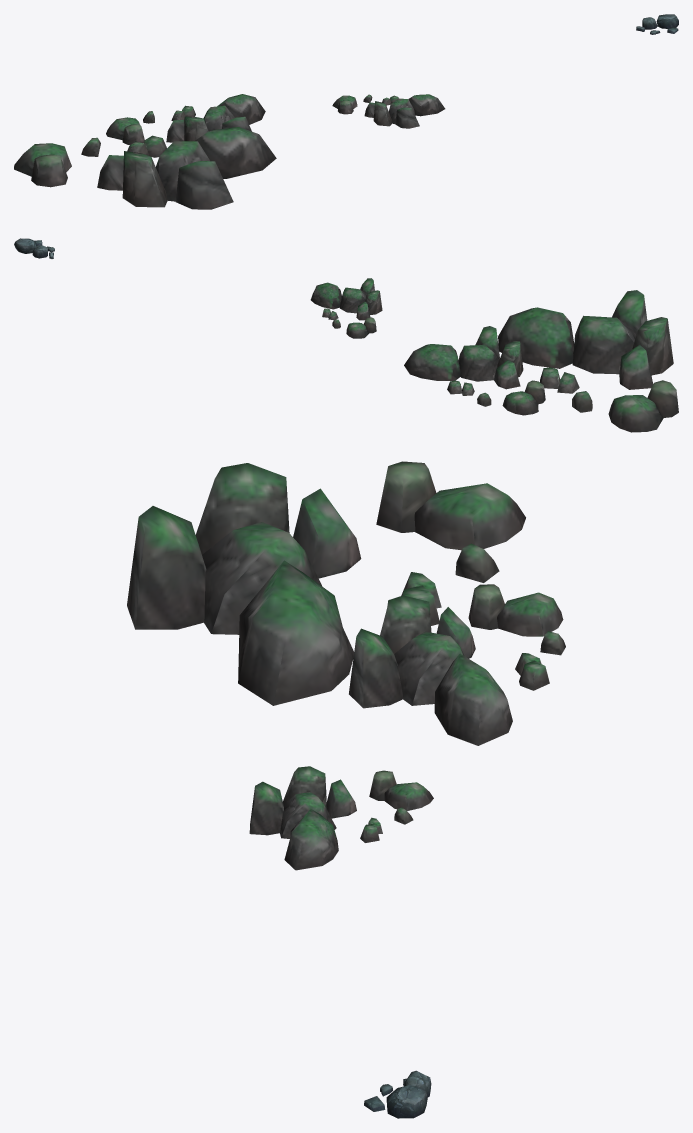
Rendered from Area_13_68.fbx.
The picture shows the model from 3 angles, top to bottom: view 1: azimuth 30°, elevation 25°; view 2: azimuth 150°, elevation 25°; view 3: azimuth 270°, elevation 25°; orthographic projection. The views are drawn at different scales.
Parts seen in each view (by area): view 1: Area_13_68; view 2: Area_13_68; view 3: Area_13_68.
Boxes of the visible parts, bbox=[...] form: Area_13_68: bbox=[14, 14, 678, 209]; Area_13_68: bbox=[14, 238, 678, 432]; Area_13_68: bbox=[127, 461, 565, 1118].
Bounding box in the file's own units: 5226 × 358 × 1546.
